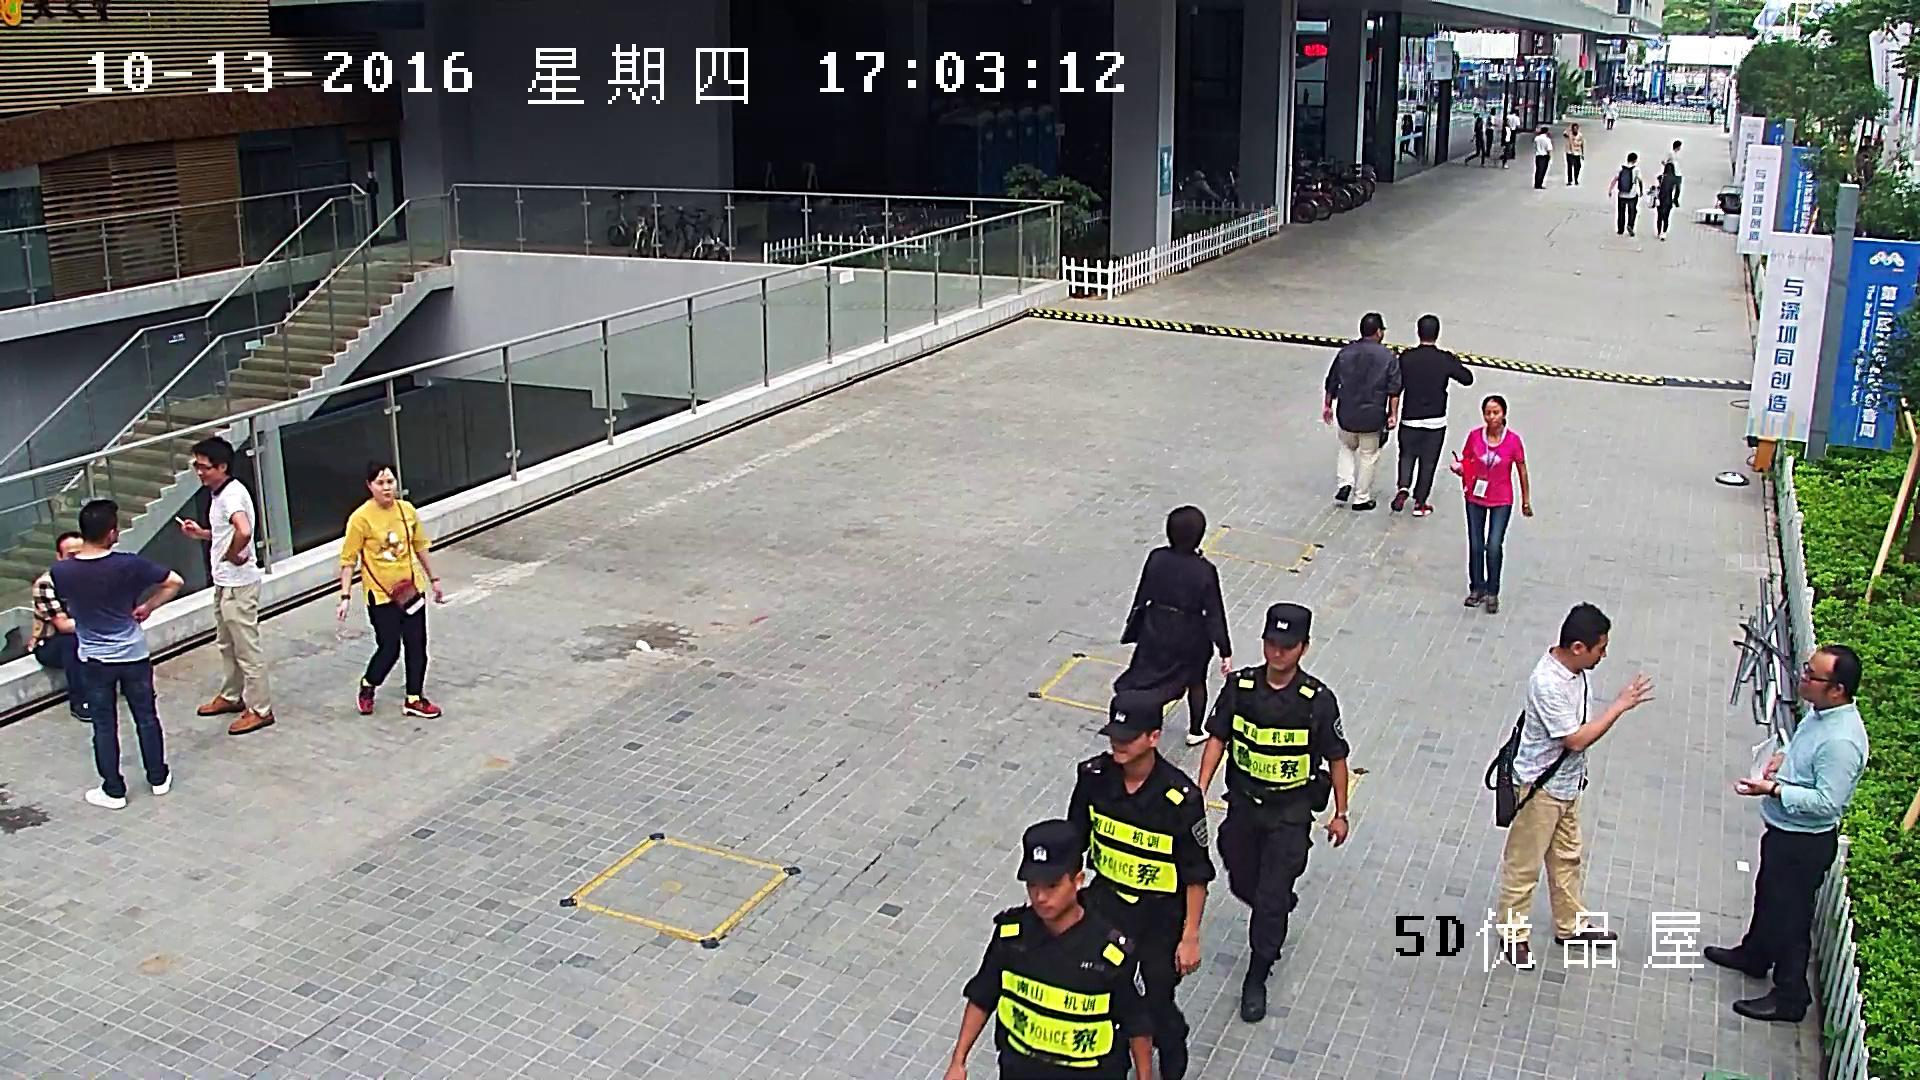person: (1199, 603, 1349, 1022), (1703, 644, 1869, 1021), (1485, 601, 1655, 968), (1066, 689, 1215, 1080), (944, 819, 1155, 1080), (50, 499, 184, 809), (174, 437, 275, 735), (1112, 505, 1232, 746), (337, 463, 441, 718), (27, 531, 157, 721), (1449, 395, 1533, 612), (1390, 313, 1472, 515), (1322, 312, 1402, 510), (1608, 151, 1643, 237), (1656, 162, 1677, 240), (1562, 122, 1584, 185), (1184, 167, 1221, 200), (1464, 117, 1488, 167), (1666, 140, 1681, 207), (1533, 127, 1551, 189), (1856, 135, 1875, 182), (1494, 117, 1512, 168), (1399, 114, 1415, 161), (1507, 110, 1520, 159), (1485, 107, 1497, 157), (1414, 104, 1425, 151), (1470, 93, 1480, 136), (1606, 98, 1615, 129), (1709, 93, 1717, 124), (1602, 92, 1609, 123)
